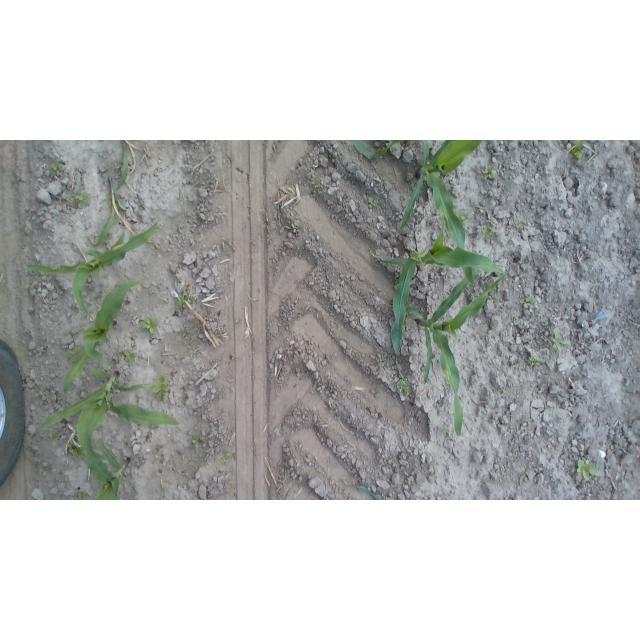Maize: (375, 224, 507, 382), (406, 266, 506, 437), (26, 370, 180, 461), (25, 219, 159, 323), (63, 282, 160, 407), (401, 140, 483, 285), (84, 421, 131, 500), (94, 178, 138, 246), (352, 140, 404, 160), (115, 141, 132, 192), (344, 481, 385, 500)
Weeds: (577, 459, 600, 481), (552, 328, 573, 352), (152, 374, 169, 403), (140, 317, 160, 335), (176, 292, 196, 310), (567, 141, 586, 159), (71, 190, 90, 207), (68, 442, 83, 461), (123, 349, 137, 363), (397, 379, 410, 394), (49, 163, 64, 176), (481, 225, 495, 238), (482, 165, 494, 179), (523, 298, 538, 309), (529, 357, 542, 367), (192, 435, 200, 449), (622, 386, 635, 394), (368, 197, 378, 207), (459, 212, 468, 223), (311, 177, 319, 188), (291, 223, 299, 234), (441, 424, 449, 434), (77, 492, 87, 500), (515, 218, 522, 228), (48, 431, 58, 438), (181, 330, 188, 339), (224, 449, 231, 457), (105, 194, 111, 203), (73, 348, 80, 355), (66, 352, 72, 360), (104, 164, 112, 170), (580, 165, 586, 172), (176, 197, 182, 203), (493, 299, 499, 304), (222, 457, 227, 463), (232, 452, 236, 458)
